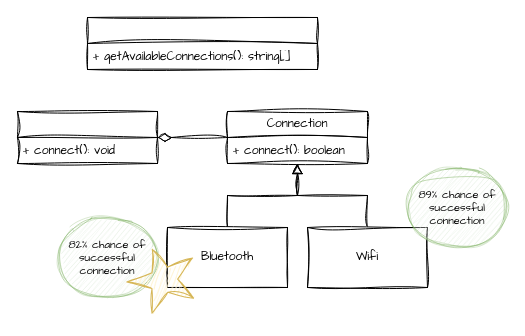
Some shapes in this 525 by 336 pixel diagram are drawn without their labels. The box of each missing label's shape, as (x1, y1, x2, y2) in pixels:
API: (86, 16, 318, 70)
Device: (16, 110, 158, 164)
